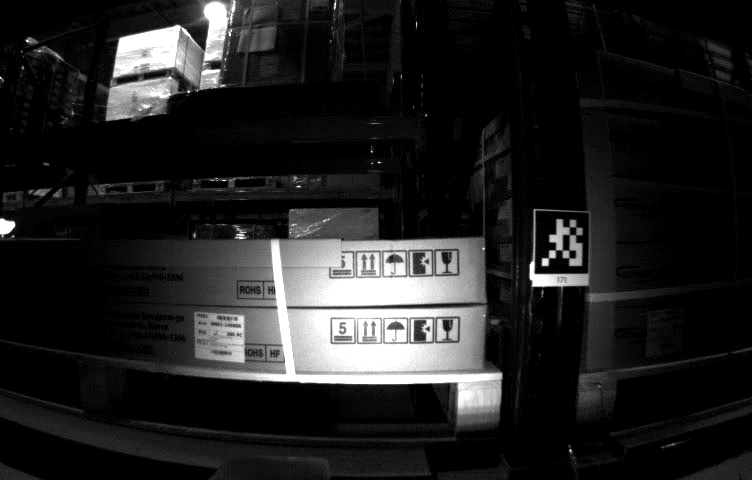True Barcode: (191, 308, 247, 365), (646, 306, 690, 359)
